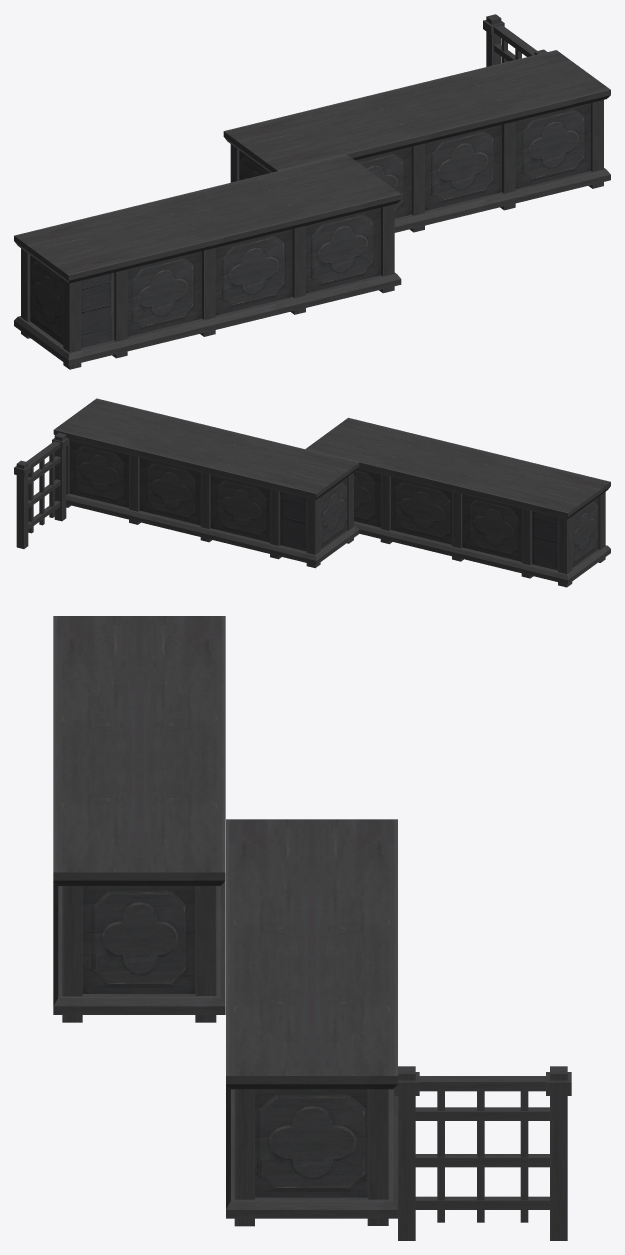
File: Homeworld_Interior_Dq_Table_Teahousetable_01_Vo.fbx
3 renders of one model, top to bottom at view 1: azimuth 30°, elevation 25°; view 2: azimuth 150°, elevation 25°; view 3: azimuth 270°, elevation 25°, orthographic. The views are drawn at different scales.
Visible parts, largest first — view 1: Indoor_Dq_Build_Comp_Teahousetable_01_Vo; view 2: Indoor_Dq_Build_Comp_Teahousetable_01_Vo; view 3: Indoor_Dq_Build_Comp_Teahousetable_01_Vo.
Part boxes in pixels (box(x1,y1,x2,y2)): Indoor_Dq_Build_Comp_Teahousetable_01_Vo: box(14, 14, 610, 369); Indoor_Dq_Build_Comp_Teahousetable_01_Vo: box(14, 398, 610, 587); Indoor_Dq_Build_Comp_Teahousetable_01_Vo: box(53, 616, 571, 1240).
Bounding box in the file's own units: 6.5 × 1.12 × 3.1.
1 material, 1 textured.
